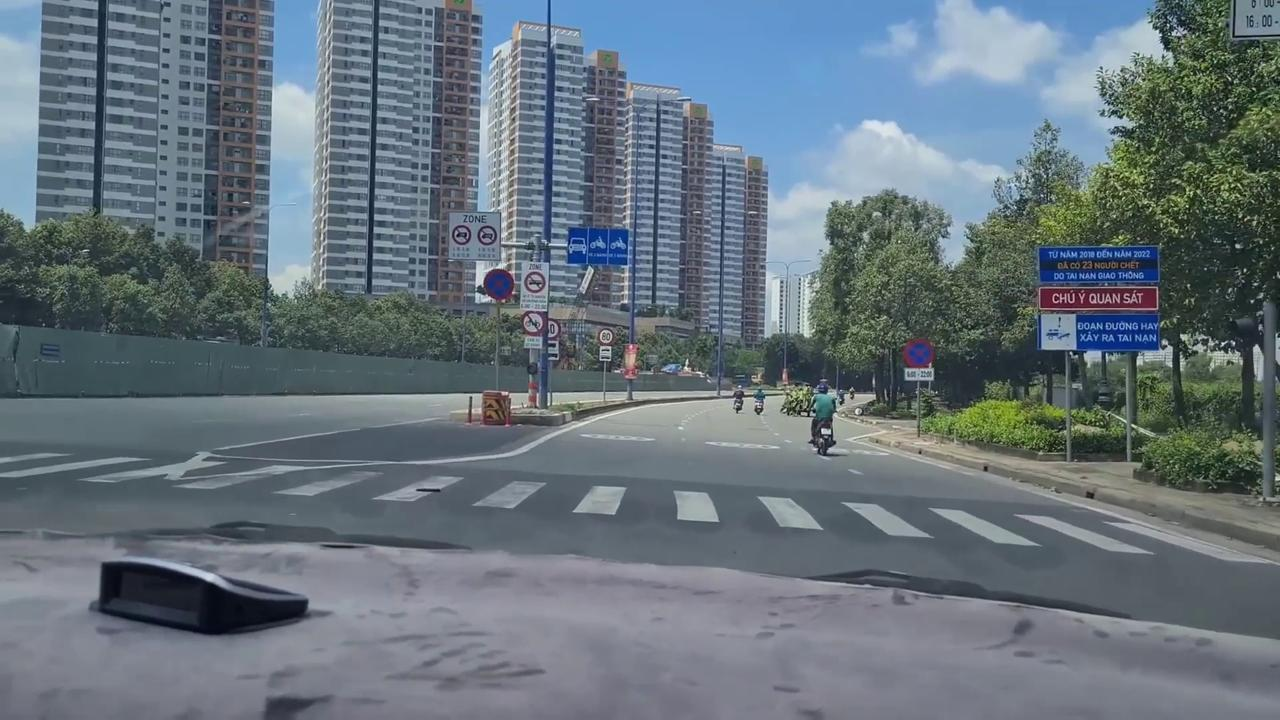Biển phụ: (904, 367, 933, 380), (524, 335, 542, 350), (598, 346, 613, 362)
Cấm cac phương tiện hoạt động trong khung giờ cố định: (448, 209, 502, 263), (520, 260, 548, 312)
Cấm dừng - Cấm đỗ: (484, 268, 515, 303), (902, 338, 935, 367)
Cấm xe máy: (521, 310, 545, 336)
Giới hạn tốc độ 80Km/h: (598, 326, 614, 346)
Khác: (1037, 244, 1161, 352)
Làn đường cho từng xe: (566, 225, 628, 266)
